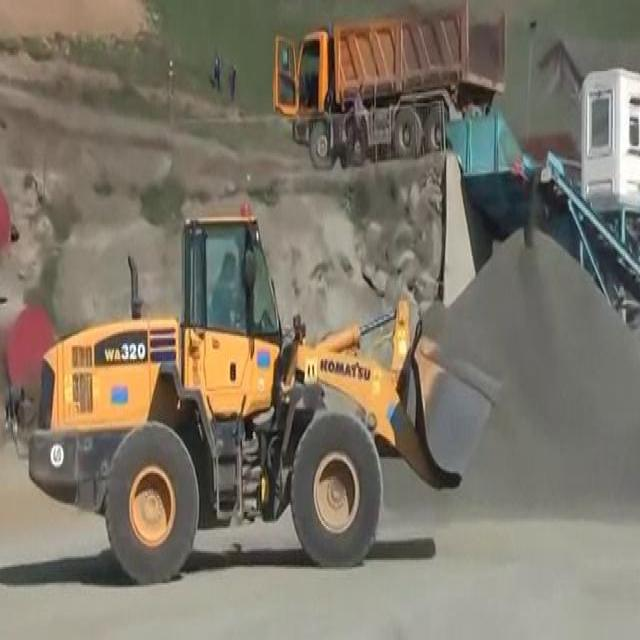Dump Truck: (271, 0, 509, 171)
Loader: (27, 197, 503, 587)
